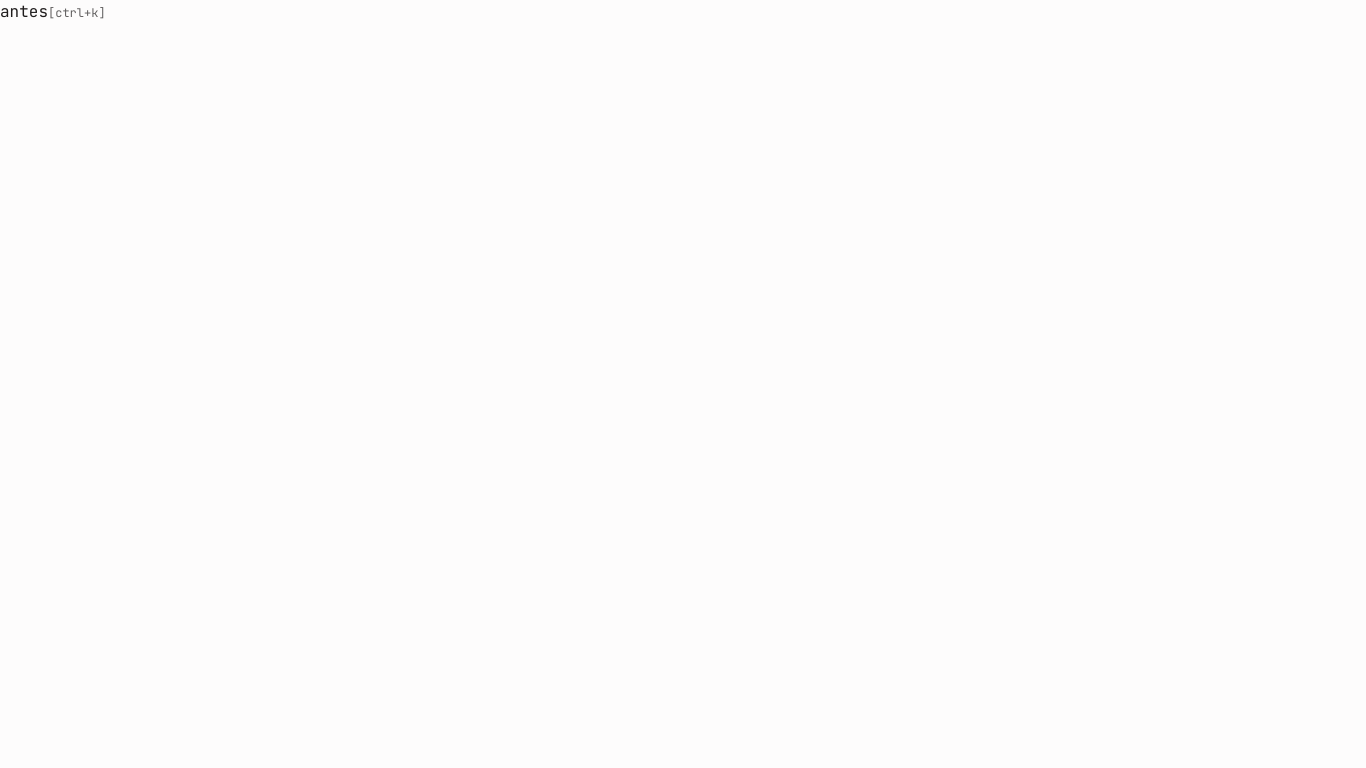
Test case: CommandPalette › cierra al hacer clic fuera
Type keys "{Control>}k{/Control}"
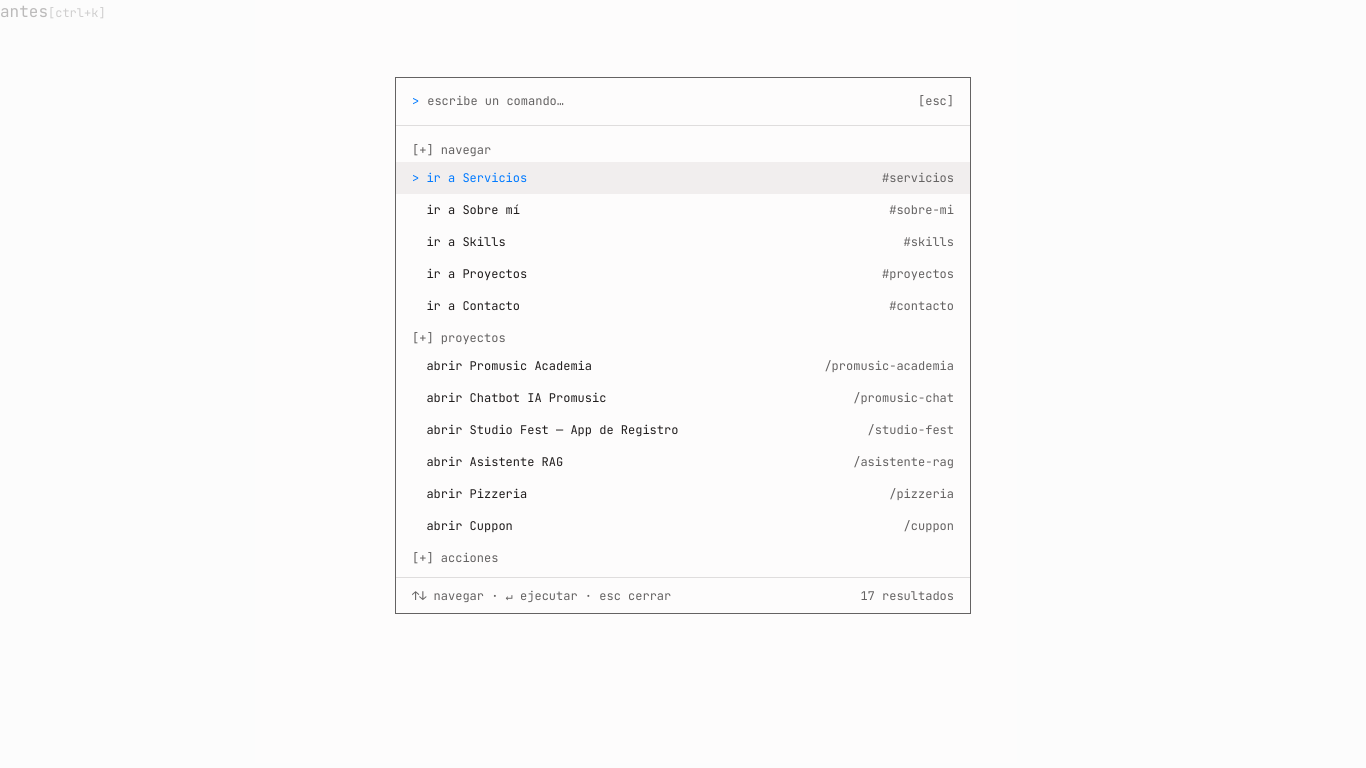
Click the element that starts with "[esc]" at (82, 384), box left=0, top=0, right=1365, bottom=767
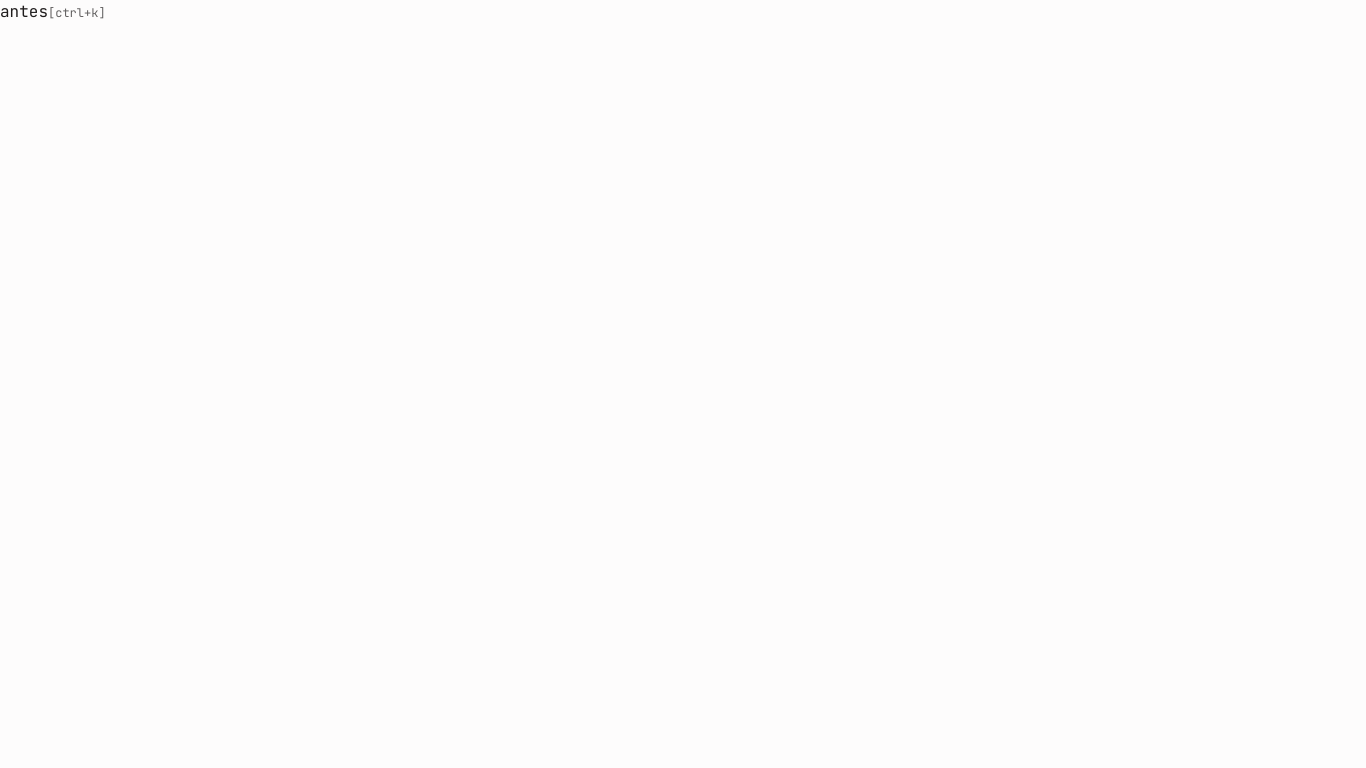
expect the dialog is gone: met
